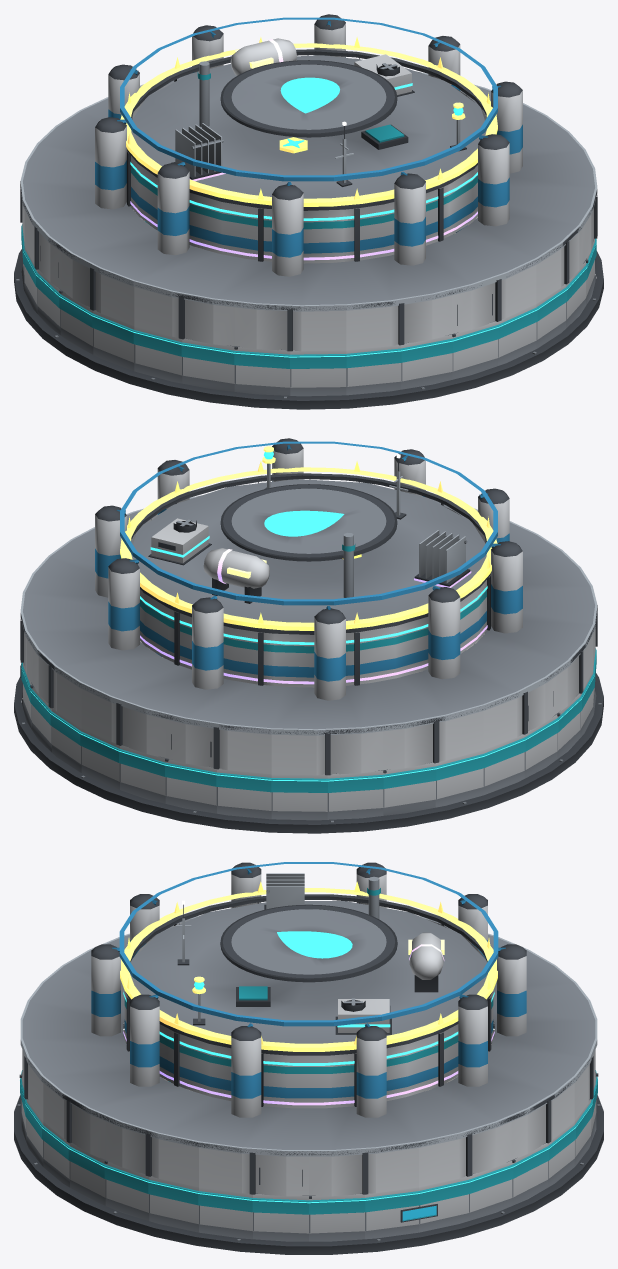
The model's file is water_recycler_l.glb.
3 views of the same model, one above another, from view 1: azimuth 30°, elevation 25°; view 2: azimuth 150°, elevation 25°; view 3: azimuth 270°, elevation 25° (orthographic).
Parts seen in each view (by area): view 1: Roof, Base, L5, L4, Wall_21, Wall_20, Wall_22, Wall_19, Wall_23, Upper_22, Upper_21, Upper_20 (+22 smaller); view 2: Roof, Base, L5, L4, L3, Wall_10, Wall_11, Wall_09, Wall_12, Wall_08, Upper_11, Upper_10 (+22 smaller); view 3: Roof, Base, L5, L4, Wall_00, Wall_31, Wall_30, Upper_00, Upper_01, Upper_31, Upper_30, Wall_29 (+22 smaller).
Part boxes in pixels (x1=…): Roof: x1=23, y1=14, x2=594, y2=305; Base: x1=14, y1=207, x2=603, y2=409; L5: x1=120, y1=37, x2=497, y2=206; L4: x1=130, y1=38, x2=477, y2=260; Wall_21: x1=290, y1=350, x2=346, y2=396; Wall_20: x1=234, y1=346, x2=290, y2=395; Wall_22: x1=346, y1=344, x2=401, y2=395; Wall_19: x1=181, y1=338, x2=234, y2=391; Wall_23: x1=401, y1=334, x2=453, y2=389; Upper_22: x1=346, y1=301, x2=401, y2=350; Upper_21: x1=290, y1=306, x2=346, y2=351; Upper_20: x1=235, y1=302, x2=289, y2=351; Roof: x1=23, y1=438, x2=594, y2=729; Base: x1=14, y1=631, x2=603, y2=833; L5: x1=120, y1=446, x2=497, y2=630; L4: x1=140, y1=530, x2=487, y2=684; L3: x1=140, y1=518, x2=487, y2=644; Wall_10: x1=271, y1=774, x2=327, y2=820; Wall_11: x1=327, y1=770, x2=383, y2=819; Wall_09: x1=216, y1=768, x2=271, y2=819; Wall_12: x1=383, y1=762, x2=436, y2=815; Wall_08: x1=164, y1=758, x2=216, y2=813; Upper_11: x1=327, y1=726, x2=382, y2=775; Upper_10: x1=271, y1=730, x2=327, y2=775; Roof: x1=22, y1=862, x2=595, y2=1149; Base: x1=14, y1=1031, x2=603, y2=1254; L5: x1=120, y1=881, x2=497, y2=1051; L4: x1=123, y1=873, x2=494, y2=1105; Wall_00: x1=309, y1=1193, x2=365, y2=1241; Wall_31: x1=252, y1=1193, x2=308, y2=1241; Wall_30: x1=198, y1=1187, x2=252, y2=1239; Upper_00: x1=309, y1=1150, x2=365, y2=1196; Upper_01: x1=365, y1=1143, x2=419, y2=1194; Upper_31: x1=252, y1=1151, x2=308, y2=1196; Upper_30: x1=198, y1=1143, x2=252, y2=1194; Wall_29: x1=148, y1=1176, x2=198, y2=1232.
Size of the model in its own units: 15.35 by 6.2 by 15.35.
